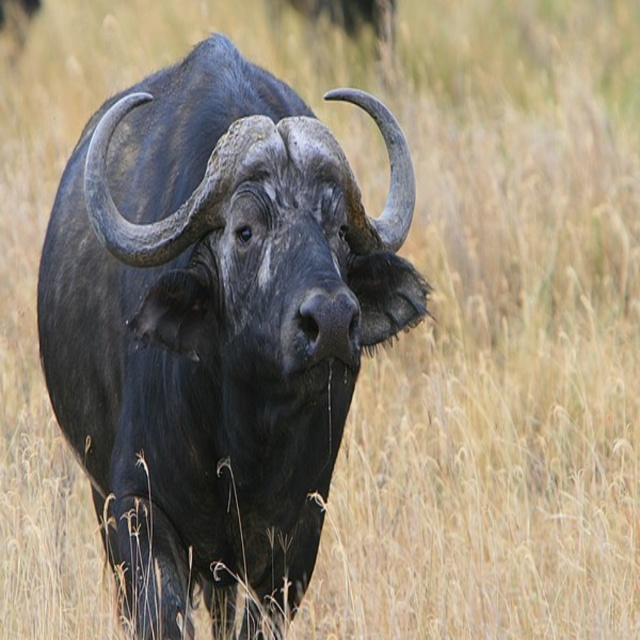Cattle: (36, 33, 438, 640)
